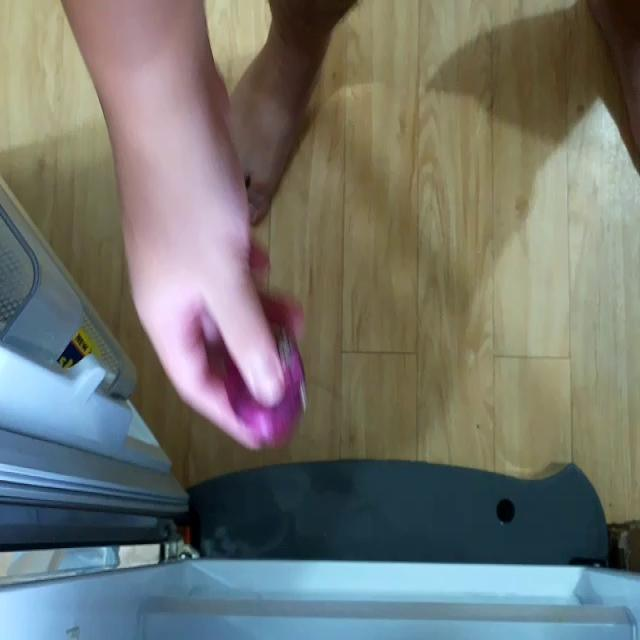onion: (224, 318, 308, 453)
